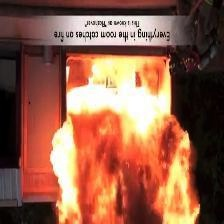fire: (35, 49, 208, 224)
